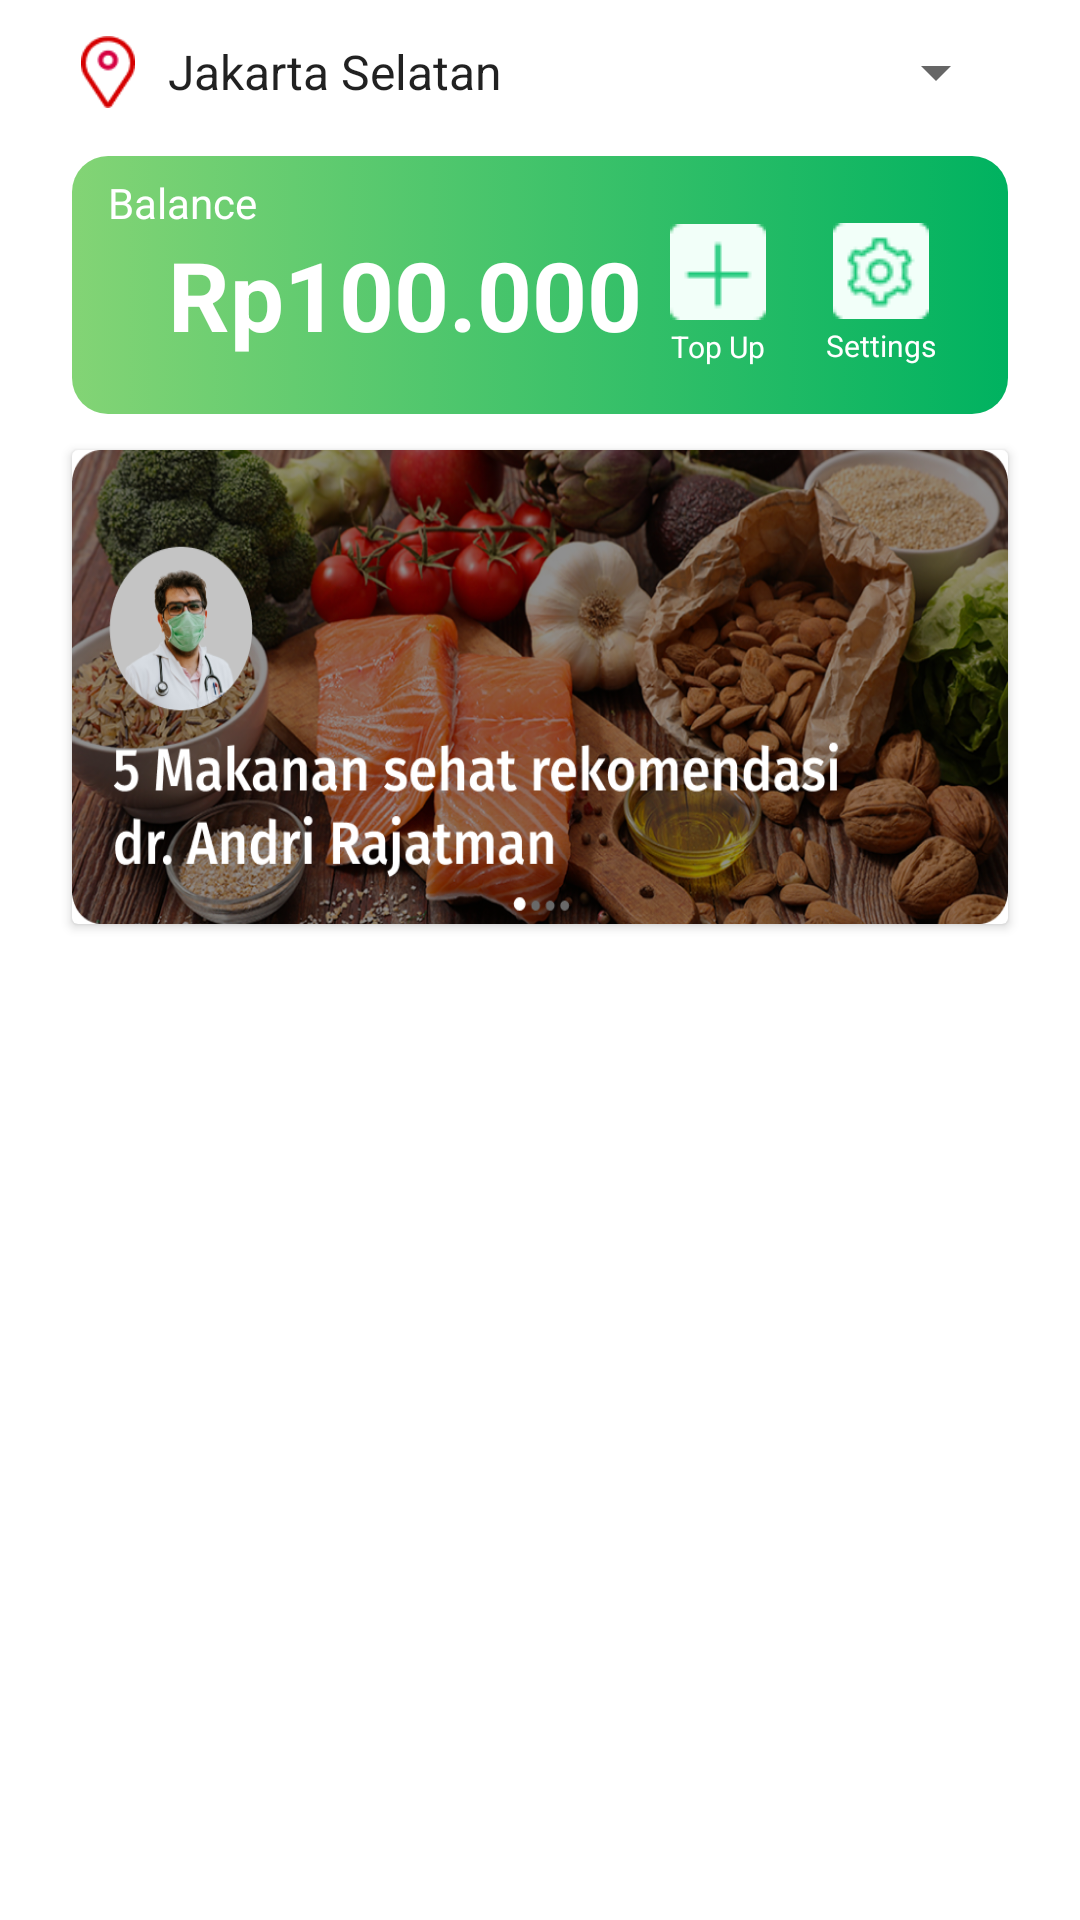

Screen size 1080x1920. Icon name, then its center in pixels as point (x, y):
location: point (108, 72)
